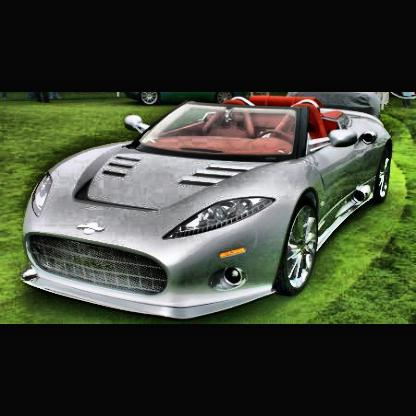Spyker C8 Convertible 2009: (18, 95, 397, 323)
